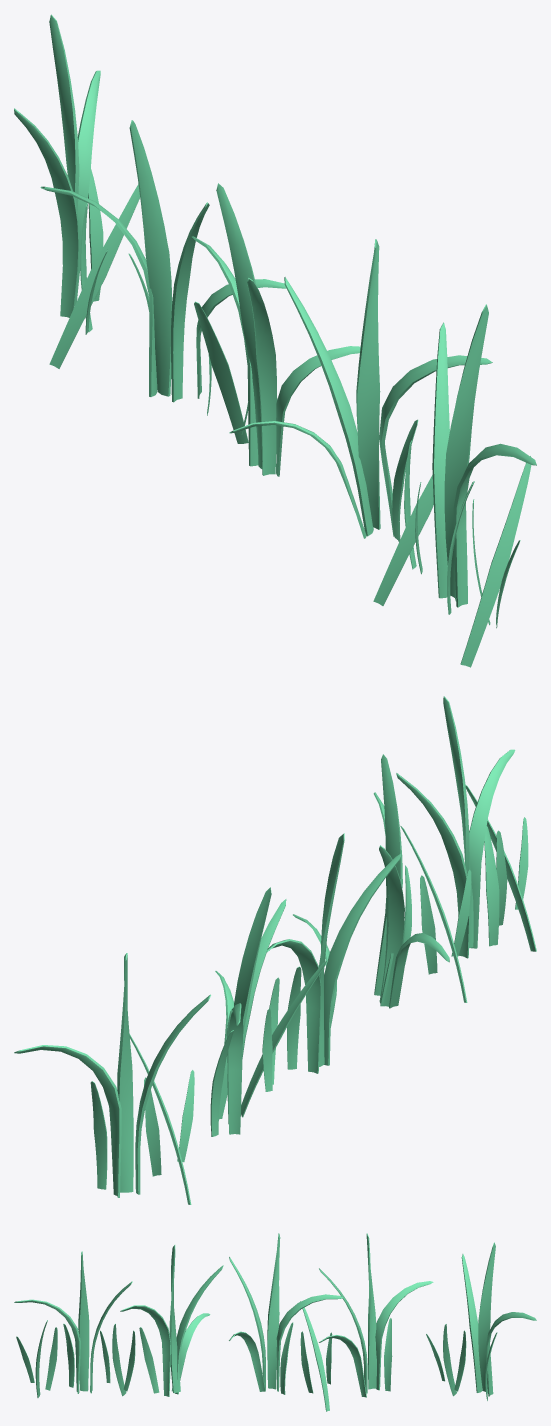
The model's file is Grass.fbx.
The picture shows the model from 3 angles, top to bottom: view 1: azimuth 30°, elevation 25°; view 2: azimuth 150°, elevation 25°; view 3: azimuth 270°, elevation 25°; orthographic projection. The views are drawn at different scales.
Visible parts, largest first — view 1: grassCombined_GEO; view 2: grassCombined_GEO; view 3: grassCombined_GEO.
Boxes of the visible parts, x1=… form: grassCombined_GEO: x1=14, y1=14, x2=536, y2=667; grassCombined_GEO: x1=14, y1=696, x2=536, y2=1204; grassCombined_GEO: x1=14, y1=1233, x2=536, y2=1411.
Size of the model in its own units: 20.13 by 32.2 by 93.38.
